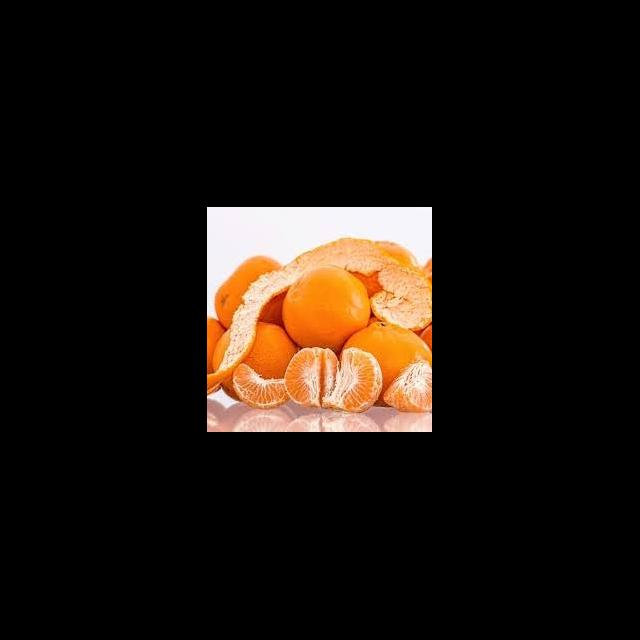food_waste: (282, 260, 372, 348), (212, 318, 294, 402), (212, 252, 288, 328), (370, 262, 430, 330), (284, 344, 340, 408), (230, 358, 294, 409), (336, 346, 384, 414), (379, 356, 432, 414)
